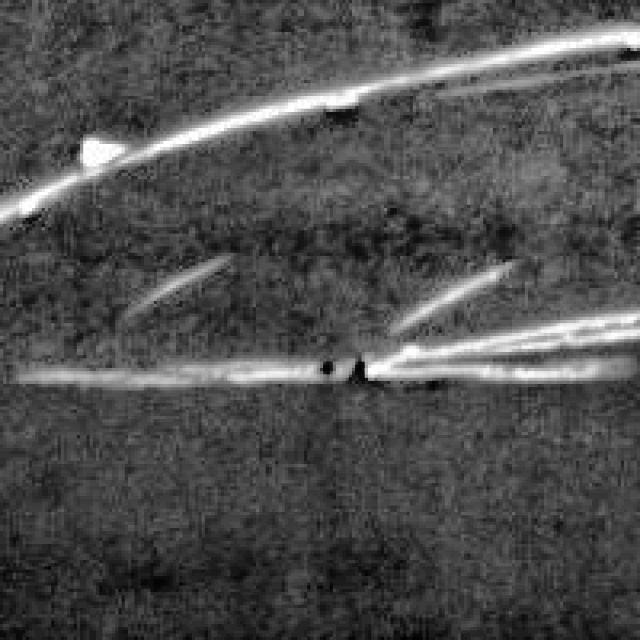Inclusion: (6, 19, 640, 218), (234, 253, 636, 381), (22, 342, 640, 390)
